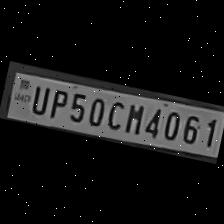0: (159, 106, 183, 142), (82, 92, 106, 126)
1: (197, 113, 221, 150)
4: (139, 102, 164, 140)
5: (63, 88, 88, 124)
6: (176, 110, 202, 146)
C: (101, 96, 126, 132)
M: (119, 99, 146, 136)
P: (42, 84, 68, 120)
U: (24, 80, 50, 116)
